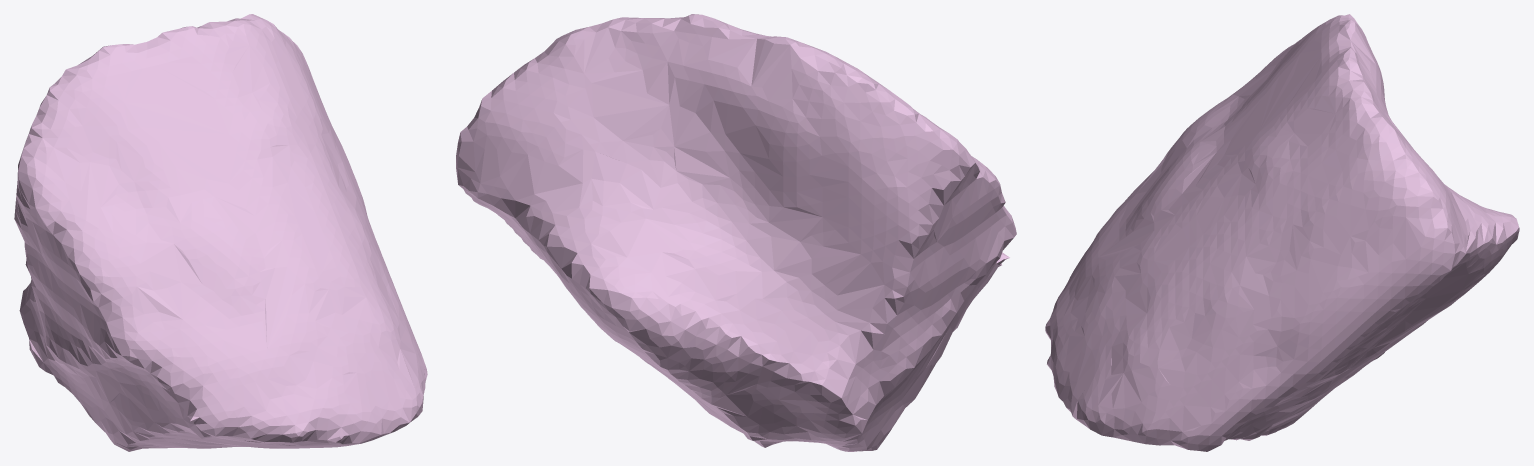
The model's file is Model_10042_LH__Area_9_of_cortex_(A9).obj.
The picture shows the model from 3 angles, left to right: view 1: azimuth 30°, elevation 25°; view 2: azimuth 150°, elevation 25°; view 3: azimuth 270°, elevation 25°; orthographic projection. The views are drawn at different scales.
Size of the model in its own units: 2.91 by 2.95 by 3.41.
